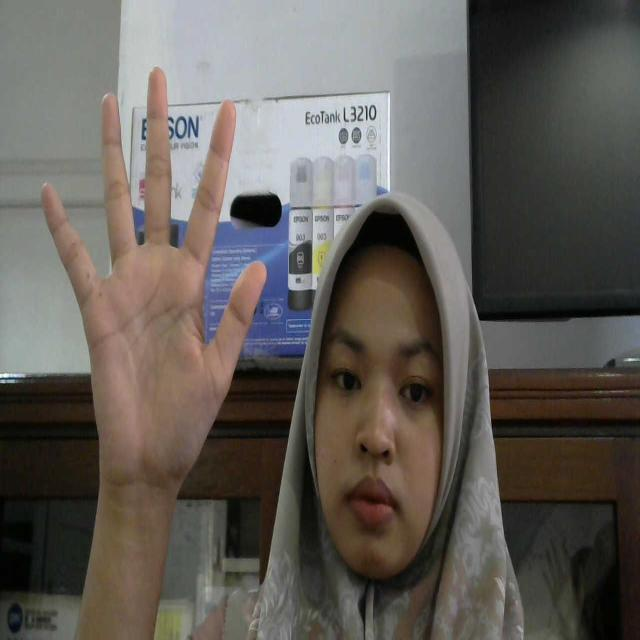hand: (39, 67, 270, 537)
